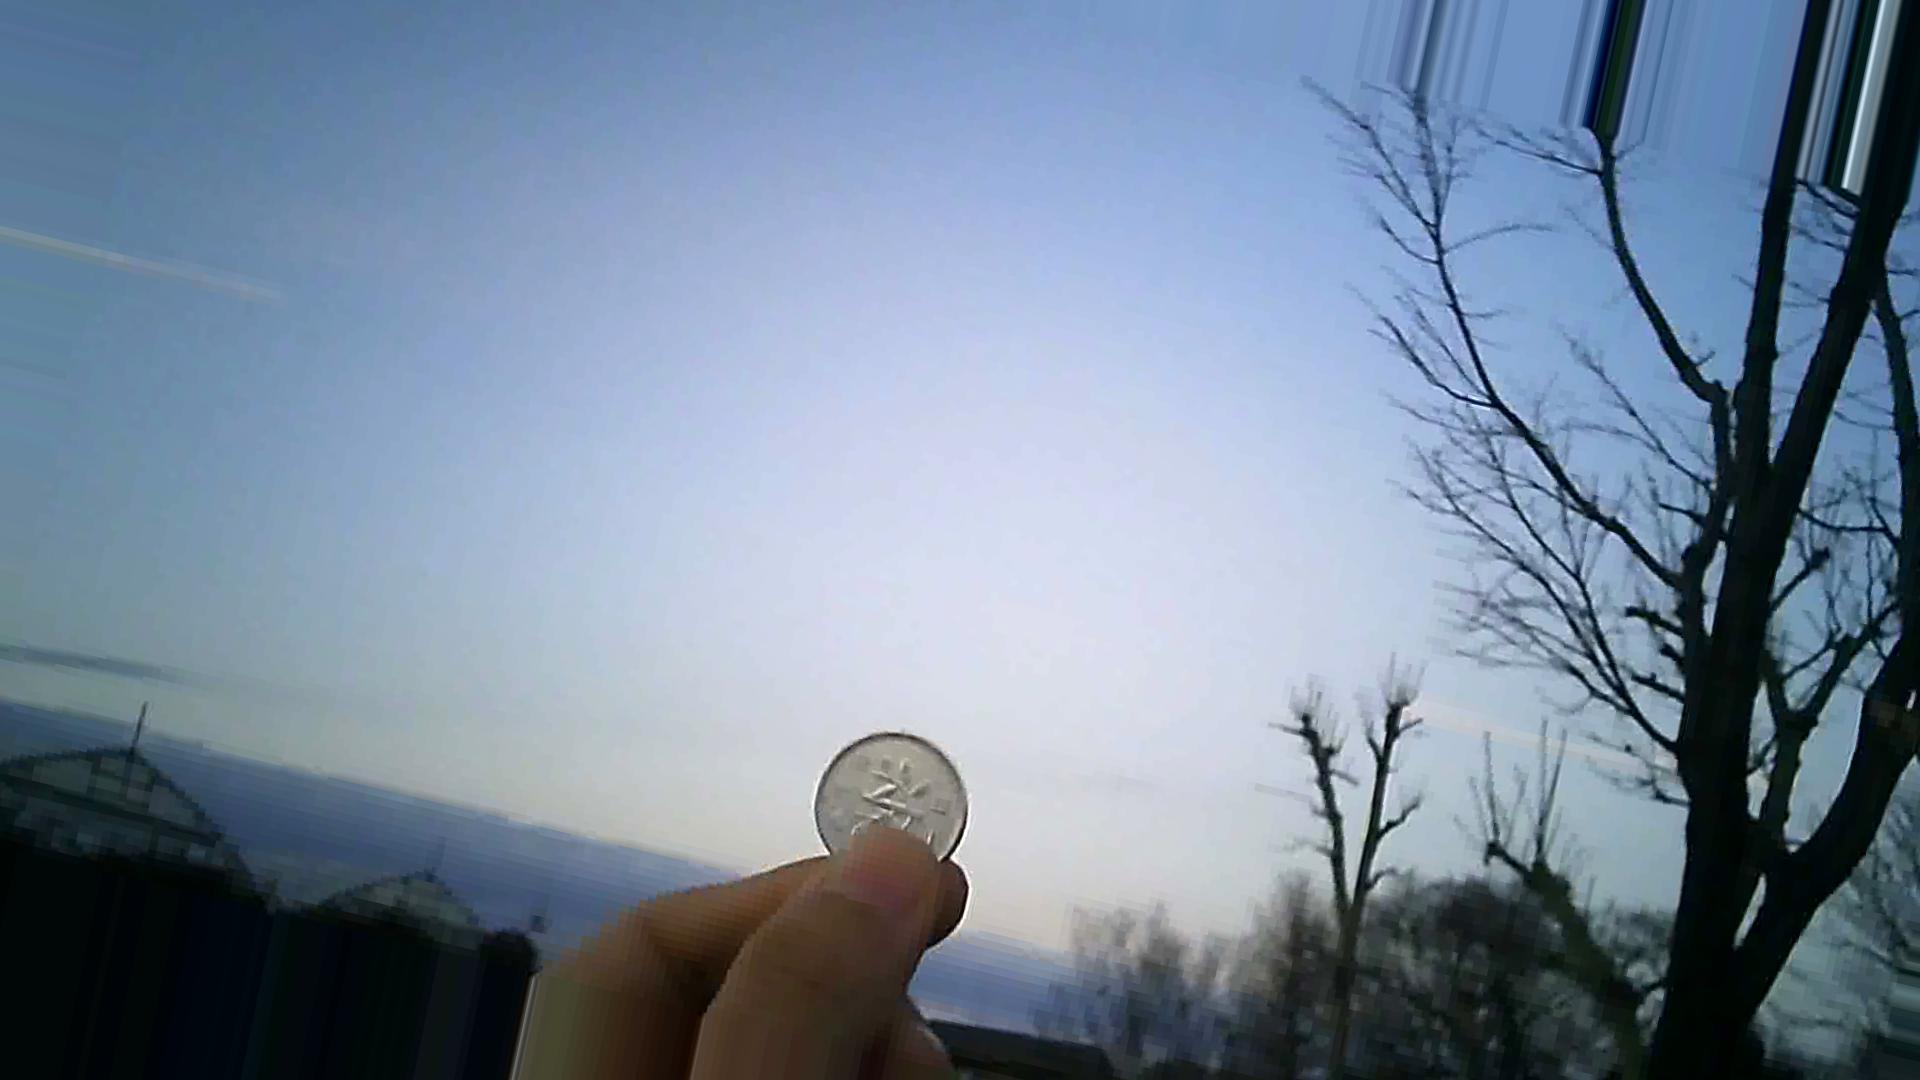1 Yen: (804, 713, 980, 887)
